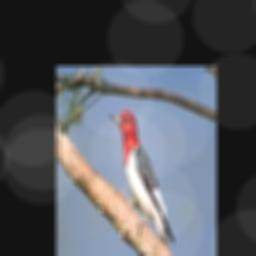Woodpecker: (110, 111, 175, 250)
